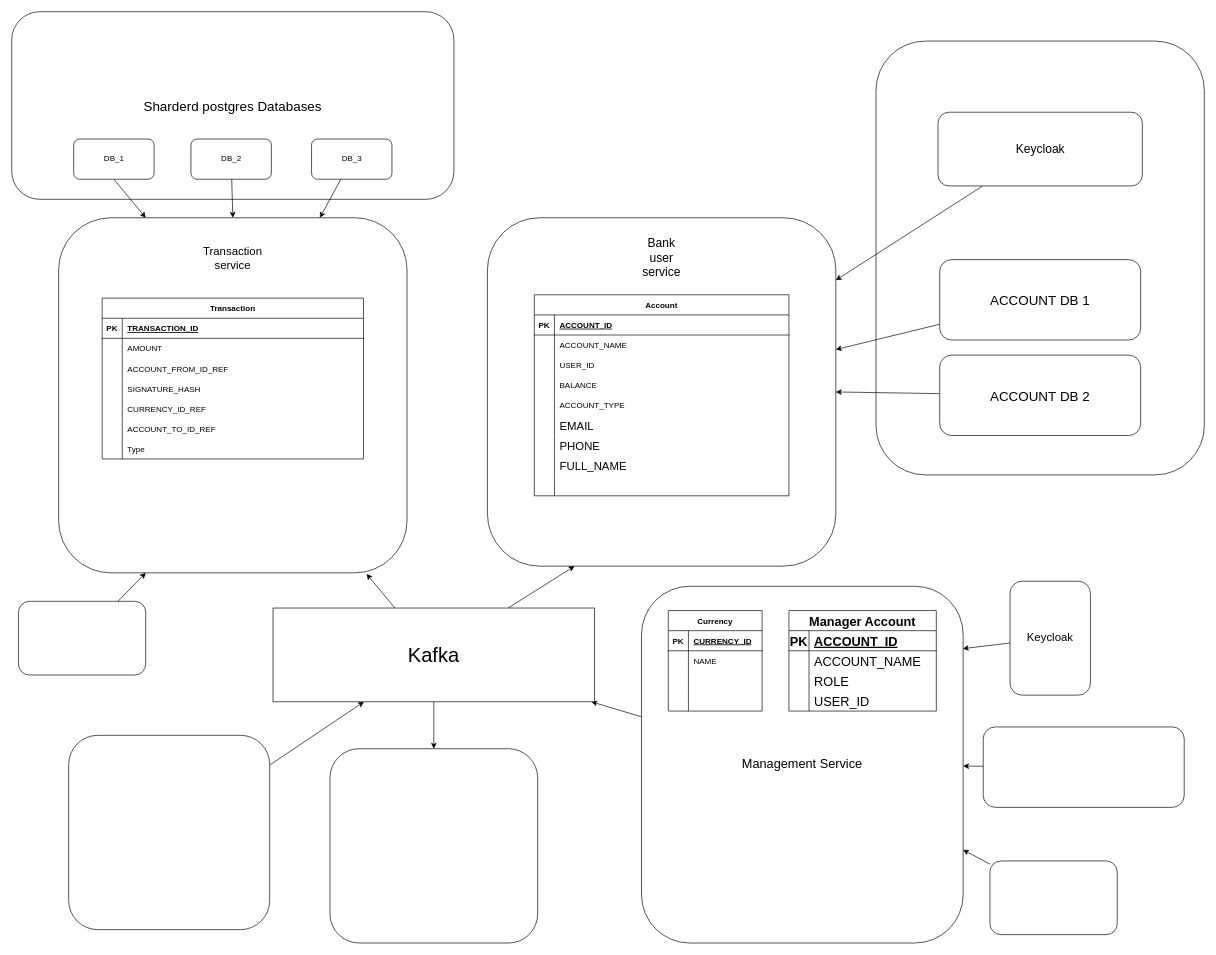
The diagram is 1216 pixels wide and 955 high, and some of its shapes have lost their labels. The centre of each missing label's shape, as x and y in pixels:
Management API: pixel 1053 897
MANAGEMENT DB: pixel 1083 766
Notification Service: pixel 433 845
PUBLIC_API: pixel 169 832
Redis Cache: pixel 82 638
